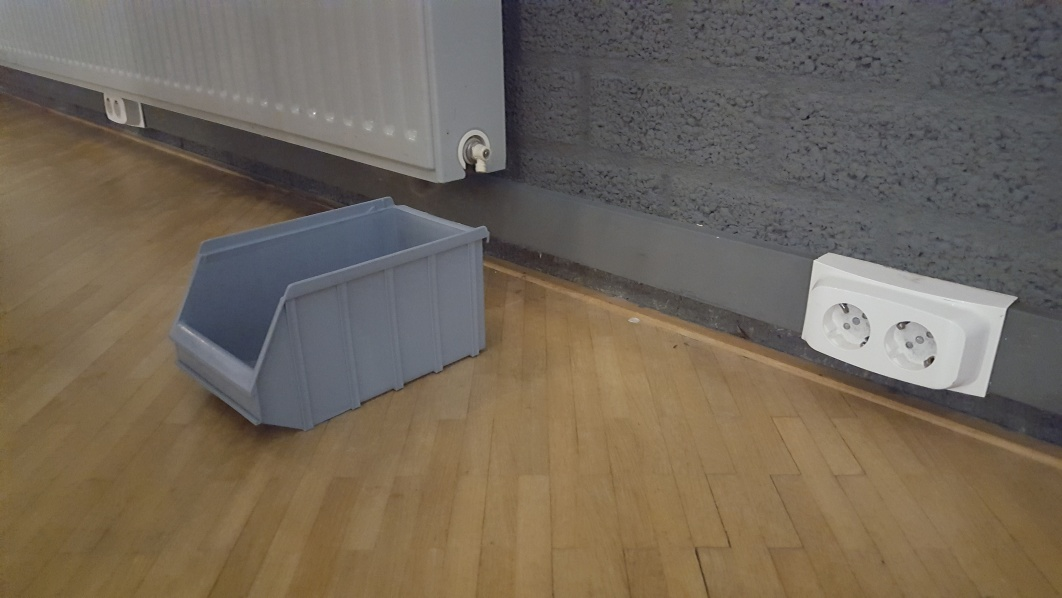tray: (172, 194, 491, 431)
